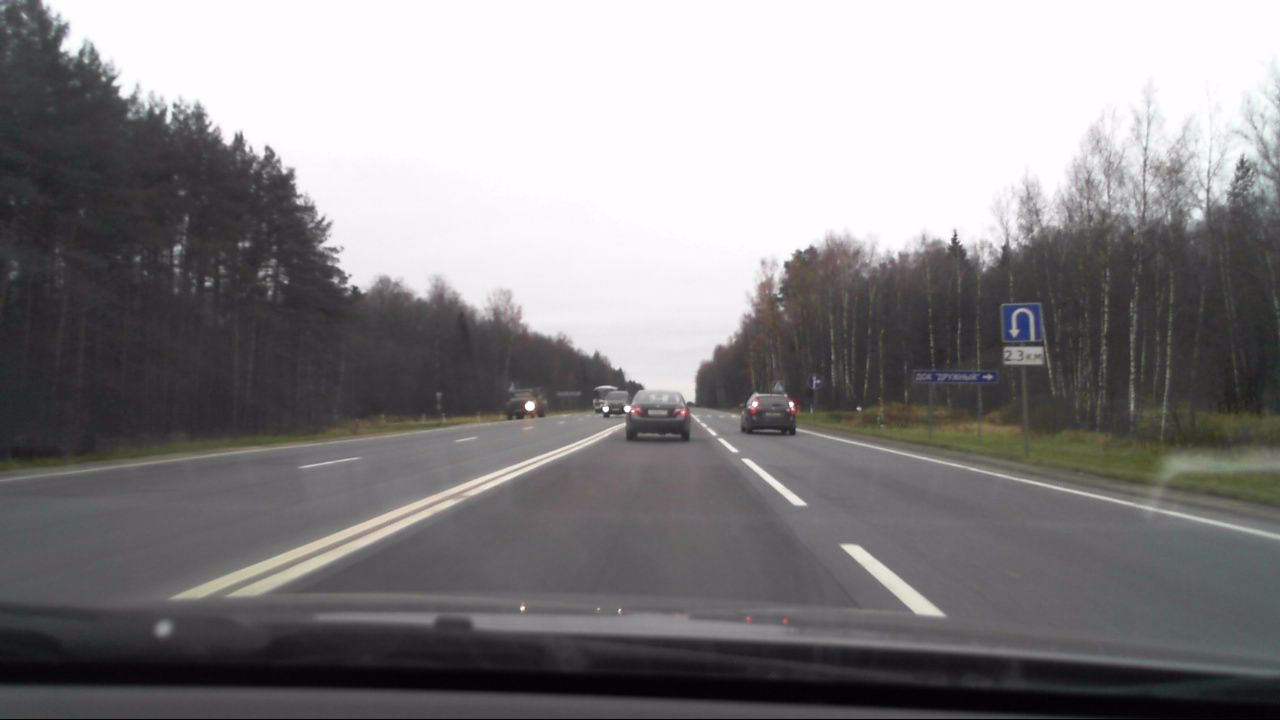U-turn: (1003, 305, 1040, 342)
